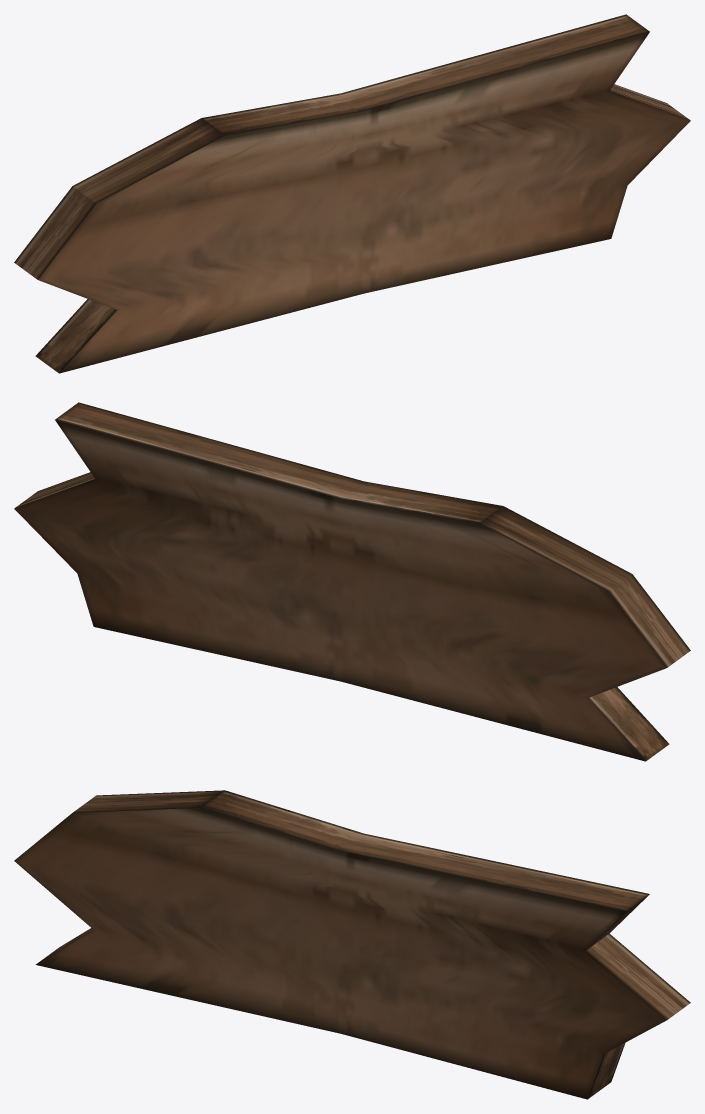
File: Obj_box_parts.FBX
3 renders of one model, top to bottom at view 1: azimuth 30°, elevation 25°; view 2: azimuth 150°, elevation 25°; view 3: azimuth 330°, elevation 25°, orthographic.
Parts seen in each view (by area): view 1: Obj_box_parts; view 2: Obj_box_parts; view 3: Obj_box_parts.
Part boxes in pixels (<box>): Obj_box_parts: <box>14,14,690,373</box>; Obj_box_parts: <box>14,402,690,761</box>; Obj_box_parts: <box>14,790,690,1099</box>.
Bounding box in the file's own units: 49.22 × 14.23 × 3.11.
Materials: 1 (1 with a texture image).
